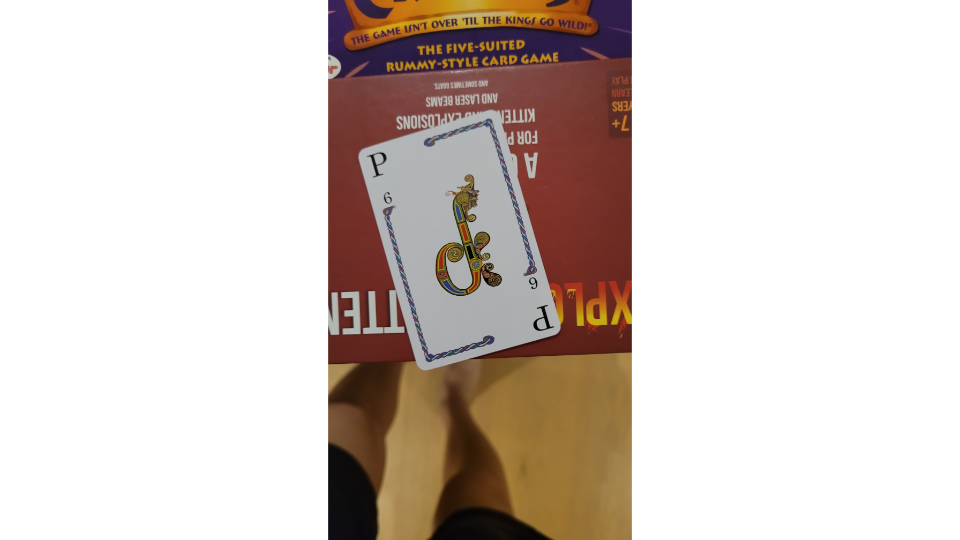P: (353, 106, 564, 374)
